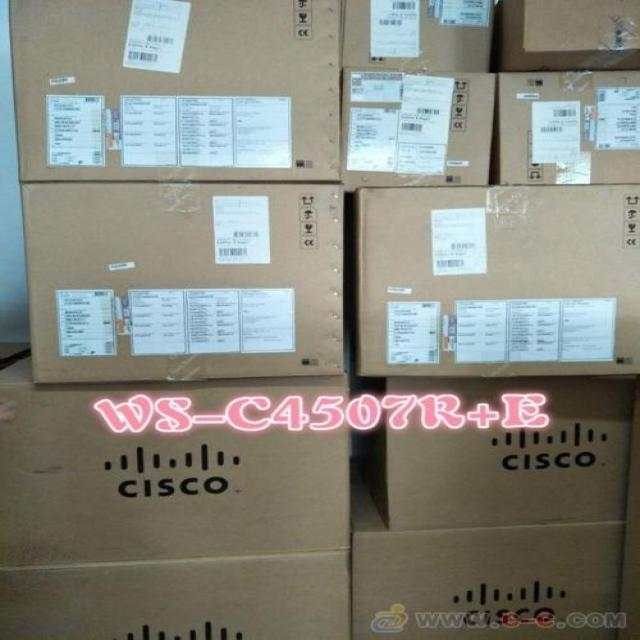box: (3, 351, 352, 570), (23, 184, 346, 386), (10, 1, 341, 184), (360, 187, 639, 375), (345, 455, 620, 639), (383, 377, 630, 527), (342, 69, 499, 191), (497, 69, 639, 186), (344, 2, 497, 71), (498, 1, 639, 70)
